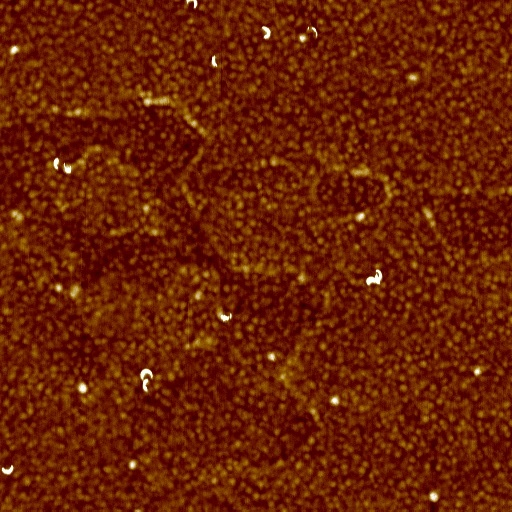-1: (364, 268, 385, 286), (76, 380, 90, 395), (220, 311, 235, 323), (61, 164, 74, 176), (329, 395, 342, 406), (266, 351, 278, 362), (428, 492, 440, 502), (474, 365, 483, 375), (129, 460, 139, 469)
1/4: (308, 22, 320, 40), (51, 157, 62, 172), (210, 55, 219, 68)
2/4: (0, 461, 18, 476), (138, 365, 156, 379), (258, 25, 273, 41), (185, 1, 200, 9)
